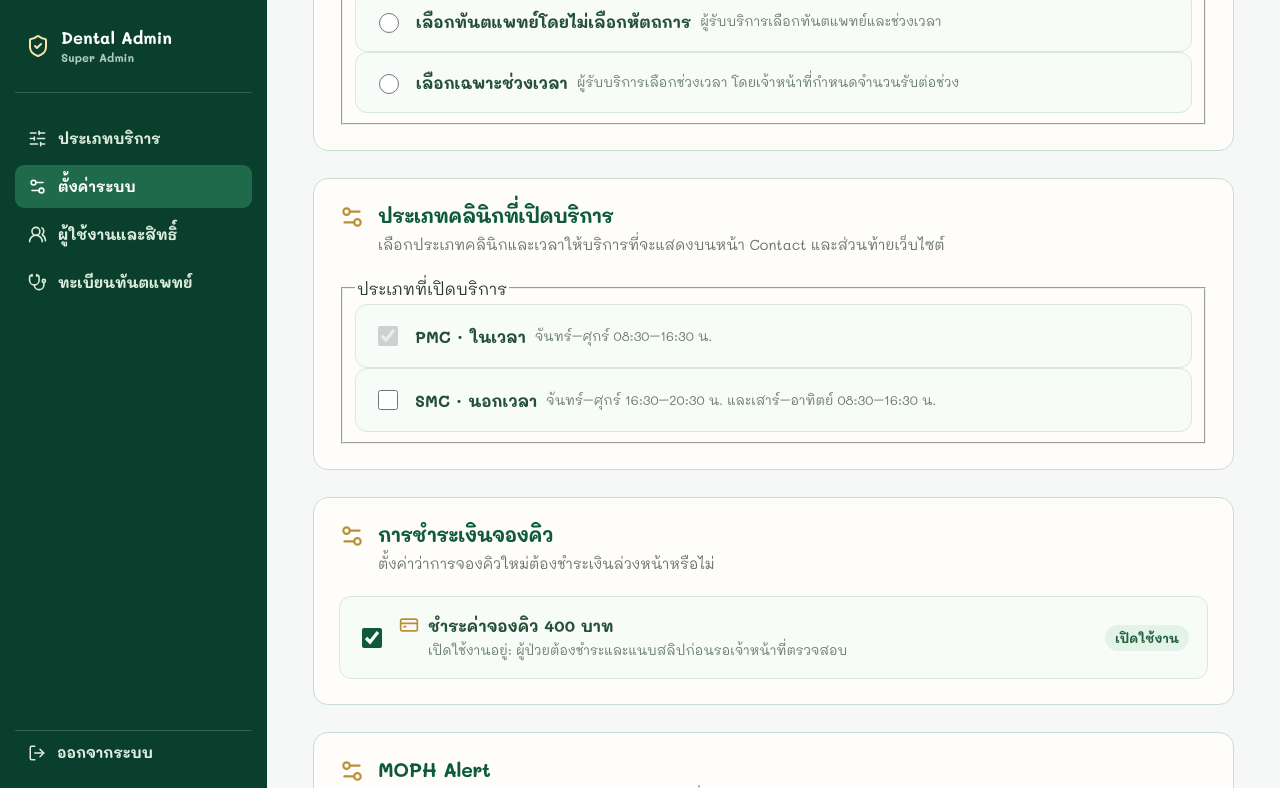
Test case: clinic SPA › lets IT Staff select PMC and SMC clinic types in system settings
(page scrolled)
What coordinates should you click on to do the following:
click the checkbox labelled "SMC · นอกเวลา"
I would click on:
 (388, 400)
Its box is left=378, top=390, right=398, bottom=410.
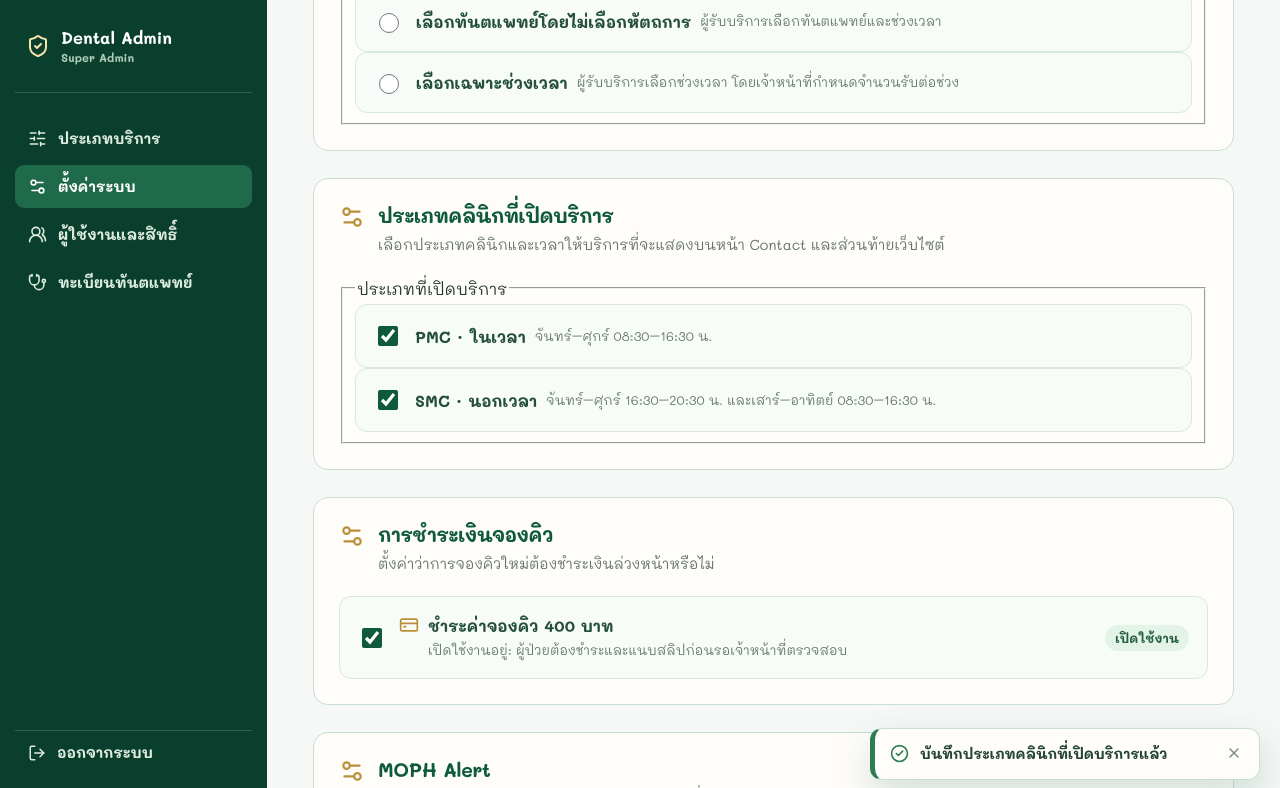
Check: the checkbox labelled "SMC · นอกเวลา" is checked, box left=378, top=390, right=398, bottom=410
Check: the text "บันทึกประเภทคลินิกที่เปิดบริการแล้ว" is shown, box left=920, top=744, right=1167, bottom=763
